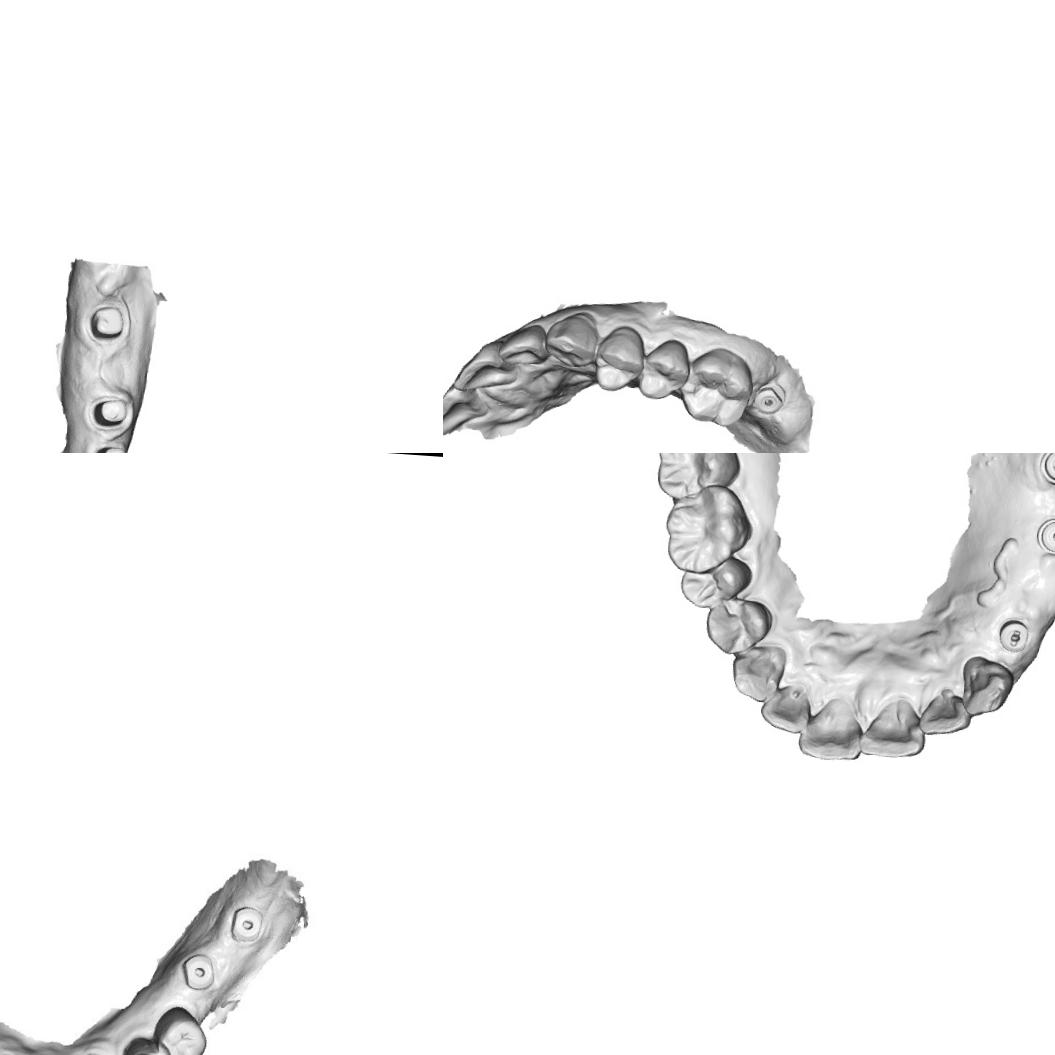abutment: (85, 389, 134, 434), (85, 300, 128, 344), (91, 440, 132, 453)
canine: (956, 653, 1018, 719), (728, 640, 788, 704), (542, 307, 598, 368)
implant: (175, 946, 220, 991), (226, 901, 268, 942), (750, 380, 788, 416), (1032, 514, 1055, 557)
implant_minus: (994, 615, 1031, 654), (1035, 453, 1055, 486)
incisor: (796, 693, 868, 762), (858, 696, 928, 759), (452, 337, 522, 395), (916, 683, 973, 738), (443, 381, 493, 439), (758, 681, 812, 734), (496, 320, 552, 368)
molar: (661, 480, 754, 577), (676, 344, 755, 429), (653, 453, 743, 503)
premolar: (676, 552, 754, 612), (702, 594, 774, 658), (592, 324, 647, 393), (636, 336, 692, 401), (151, 1006, 207, 1055), (112, 1040, 170, 1055)
